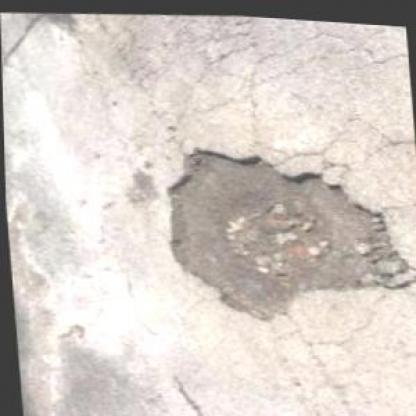pothole: (150, 128, 414, 333)
